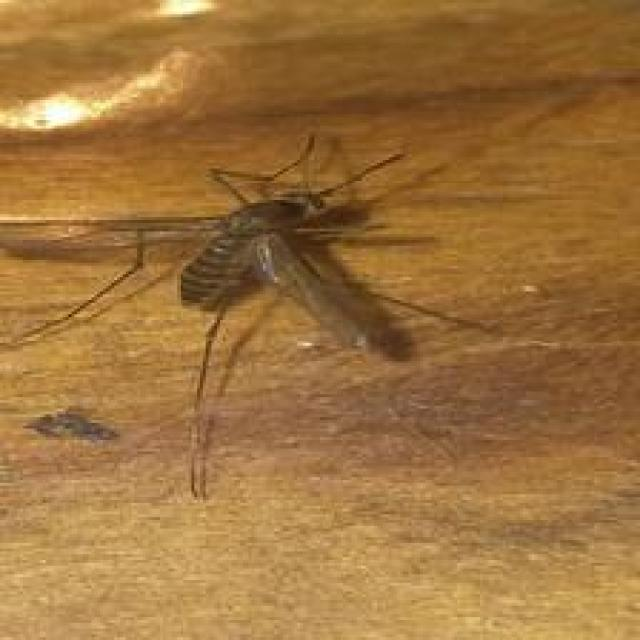Culex: (0, 130, 503, 501)
